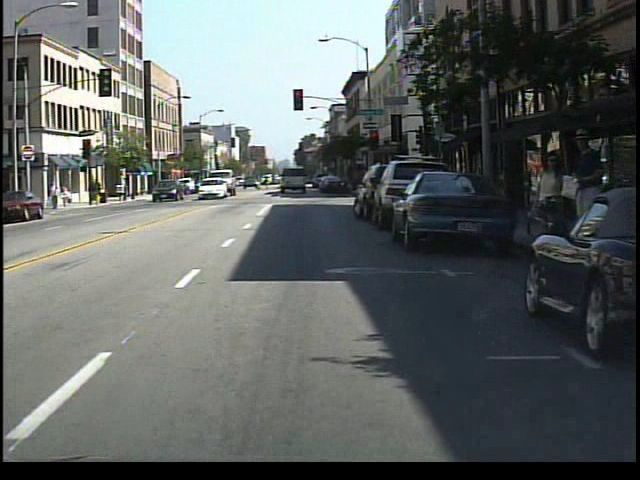person: (566, 123, 605, 279), (527, 146, 565, 280), (47, 181, 62, 214), (58, 184, 74, 211)
